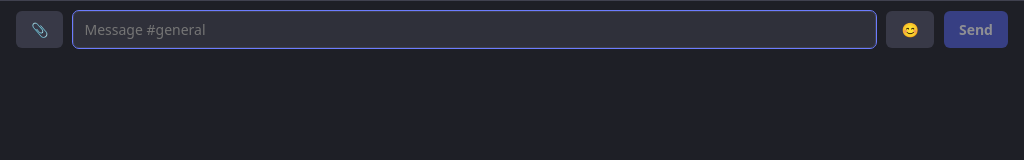
Composer ':' suggestions › moves with the arrows (wrapping) and completes with Tab
Type ":pa" into the dropdown with placeholder "Message #general". click: (475, 30)
box: [74,11,876,48]
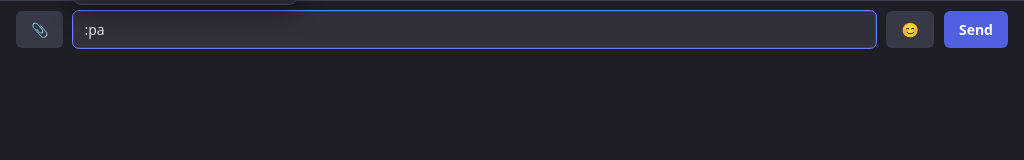
Press ArrowDown in the dropdown with placeholder "Message #general", box [74,11,876,48]
Press ArrowDown in the dropdown with placeholder "Message #general", box [74,11,876,48]
Press ArrowUp in the dropdown with placeholder "Message #general", box [74,11,876,48]
Press Tab in the dropdown with placeholder "Message #general", box [74,11,876,48]
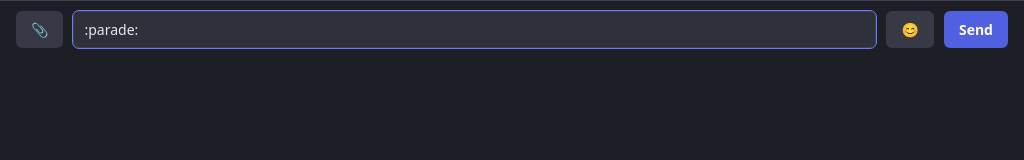
Check: the dropdown with placeholder "Message #general" holds ":parade: ", box [74,11,876,48]
